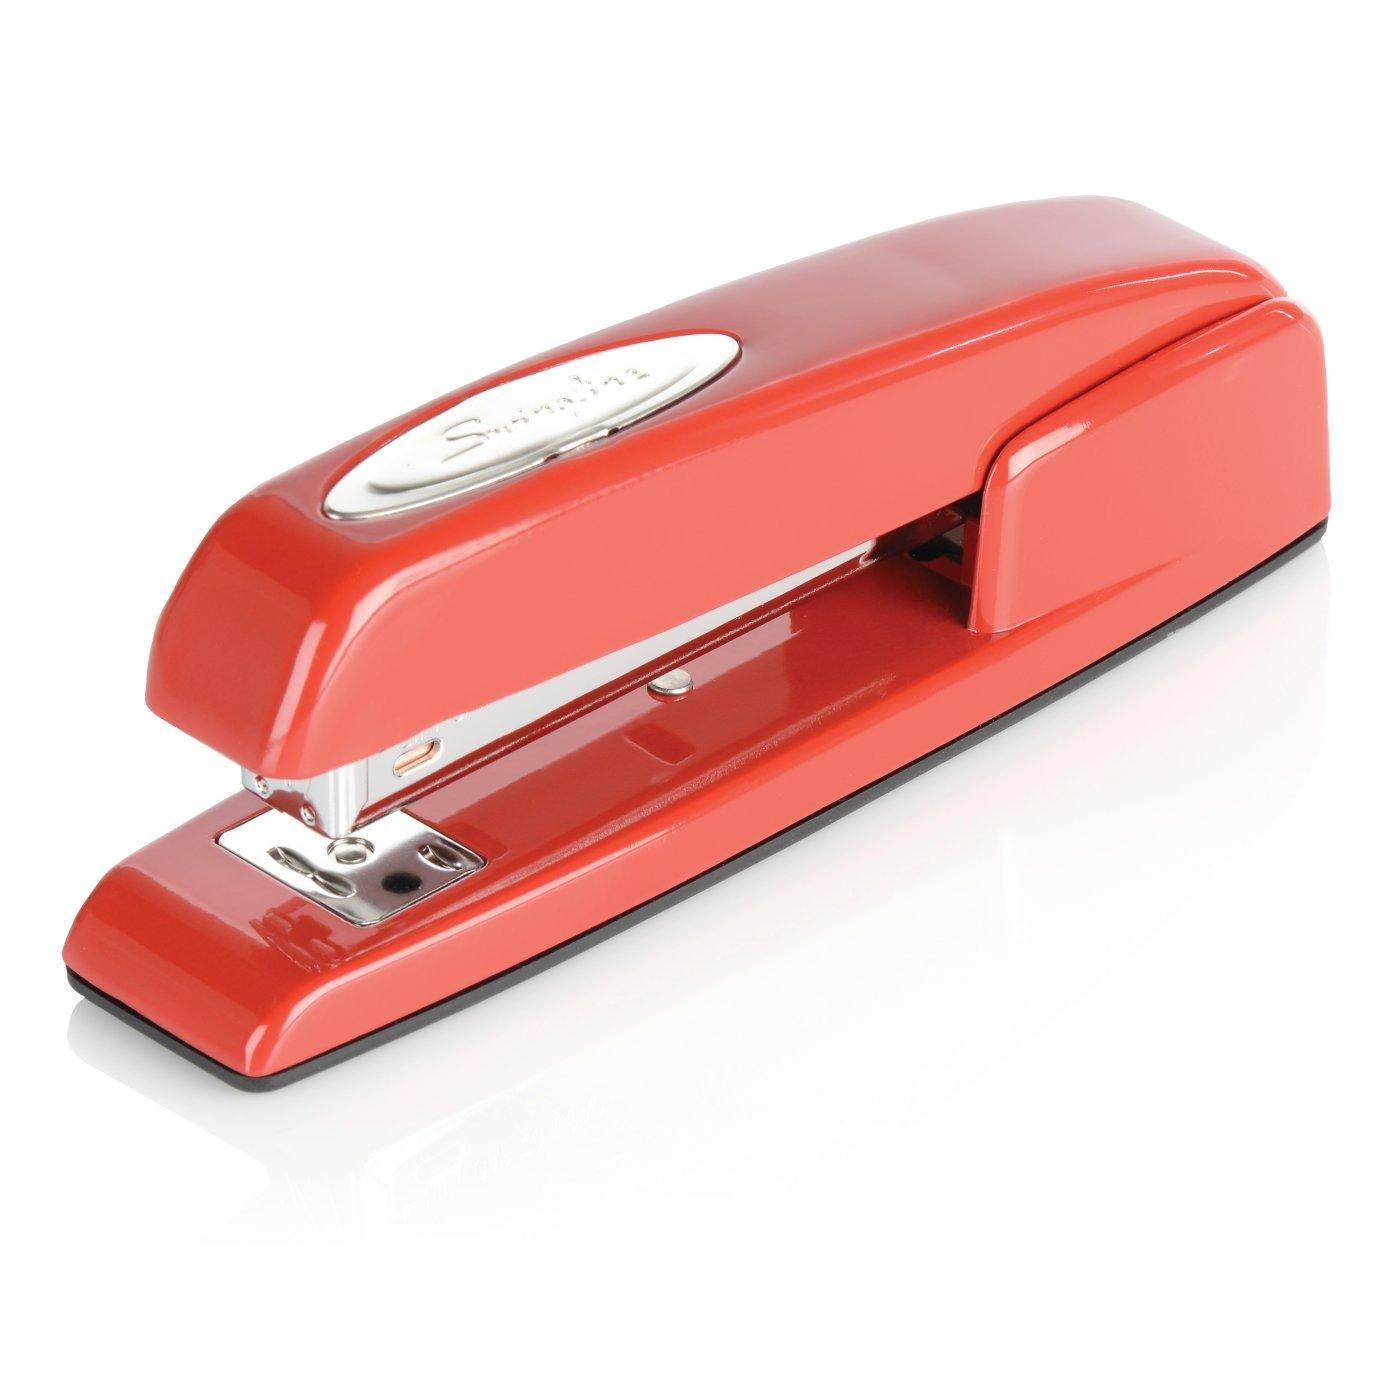Stapler: (0, 146, 1351, 1112)
